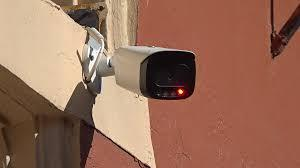Security camera: (78, 25, 196, 100)
